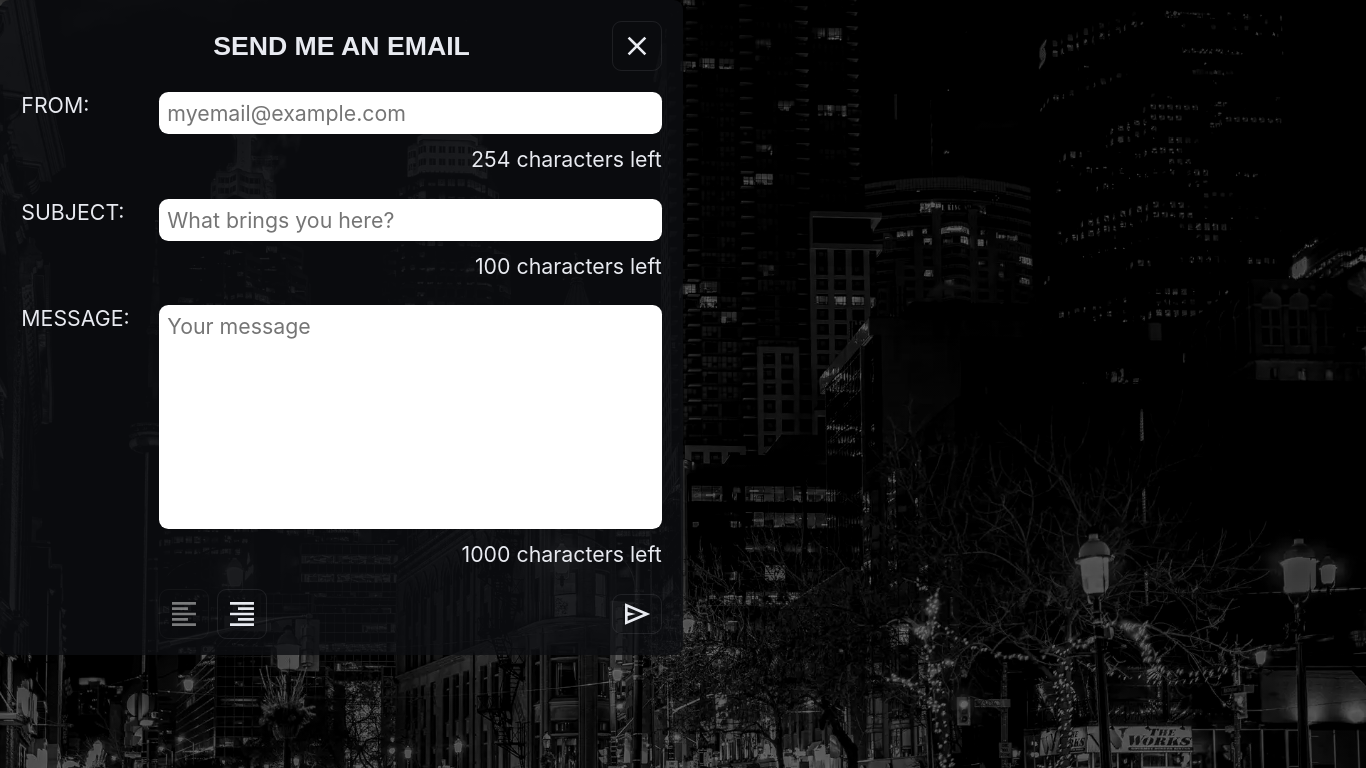
Scenario: MessageForm › displays the resolved success message after submission
Type "me@example.com" into the field labelled "From:". click: [410, 113]
box: [159,92,662,134]
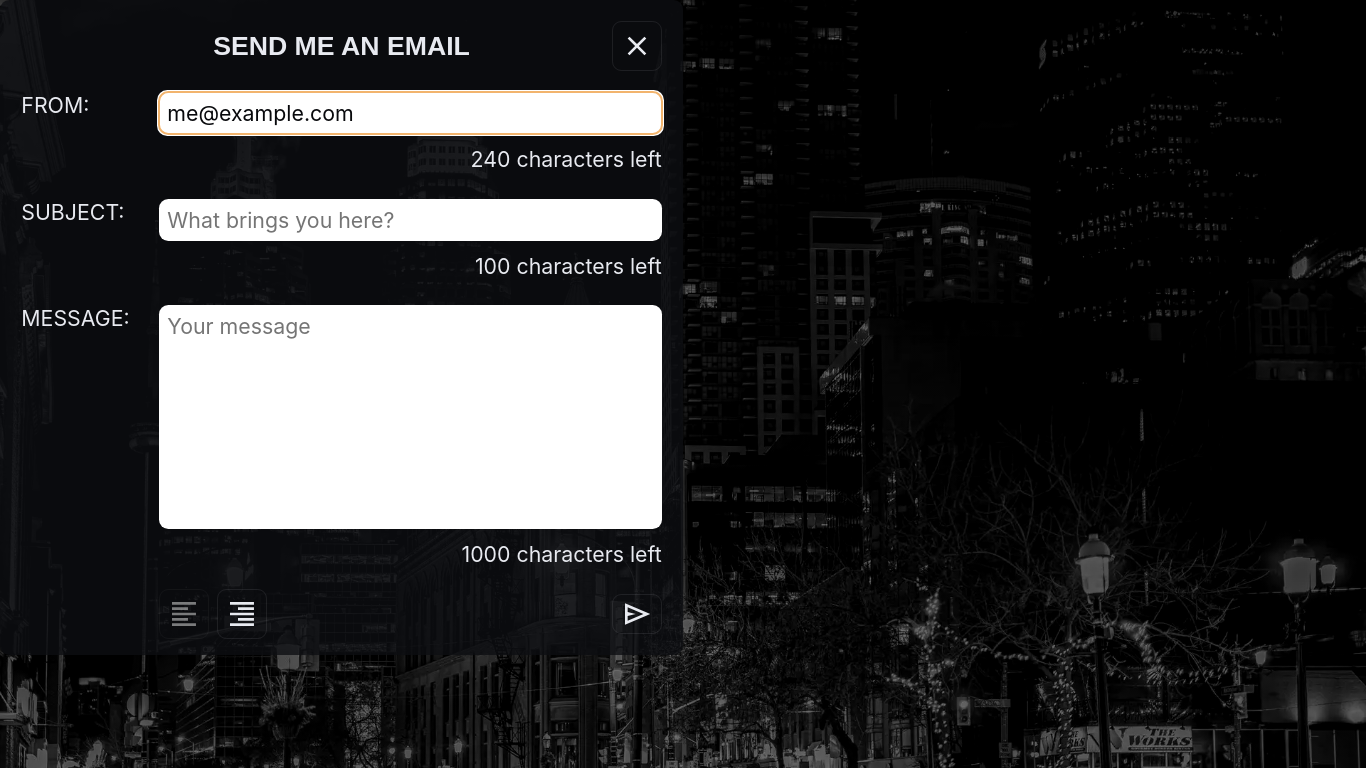
Type "Hello there" into the field labelled "Subject:". click: [410, 220]
box: [159,199,662,241]
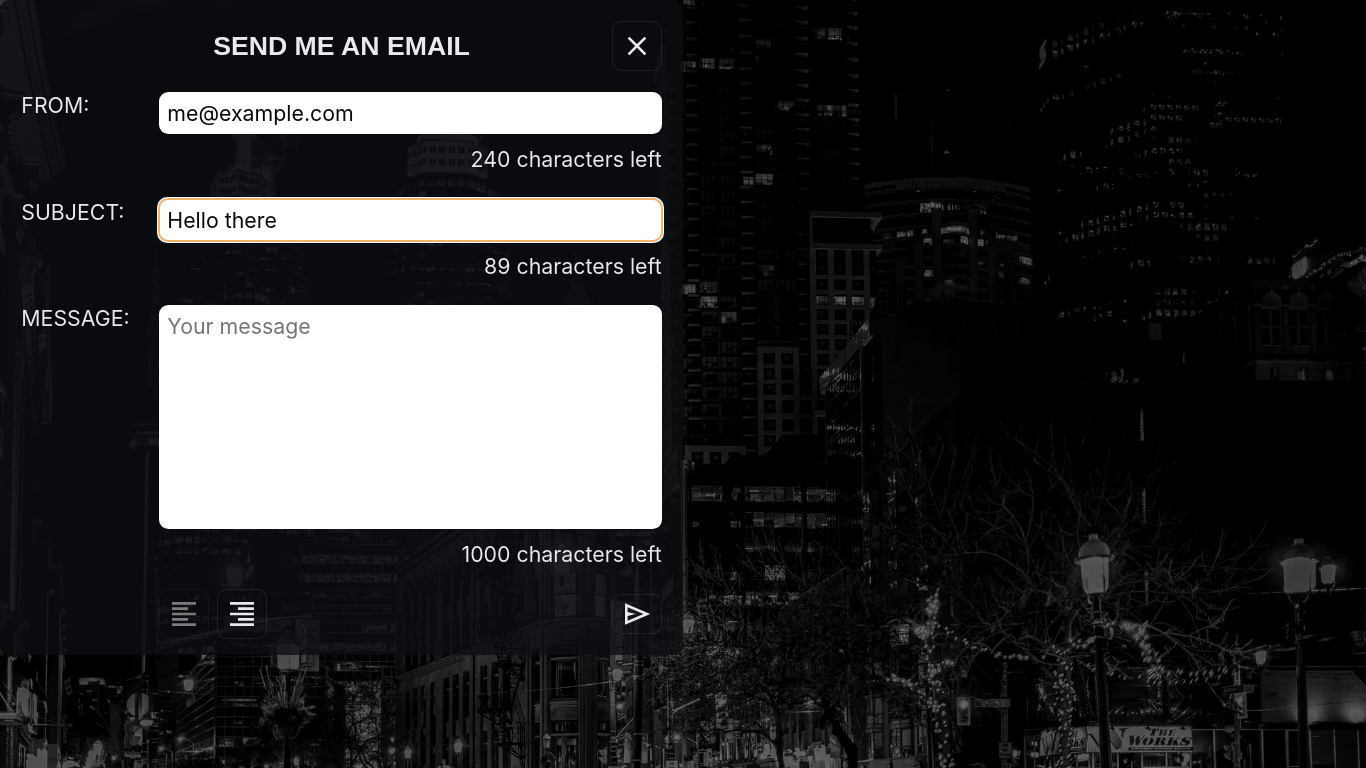
Type "Hi, this is a message" into the text box labelled "Message:". click: [410, 417]
box: [159,305,662,529]
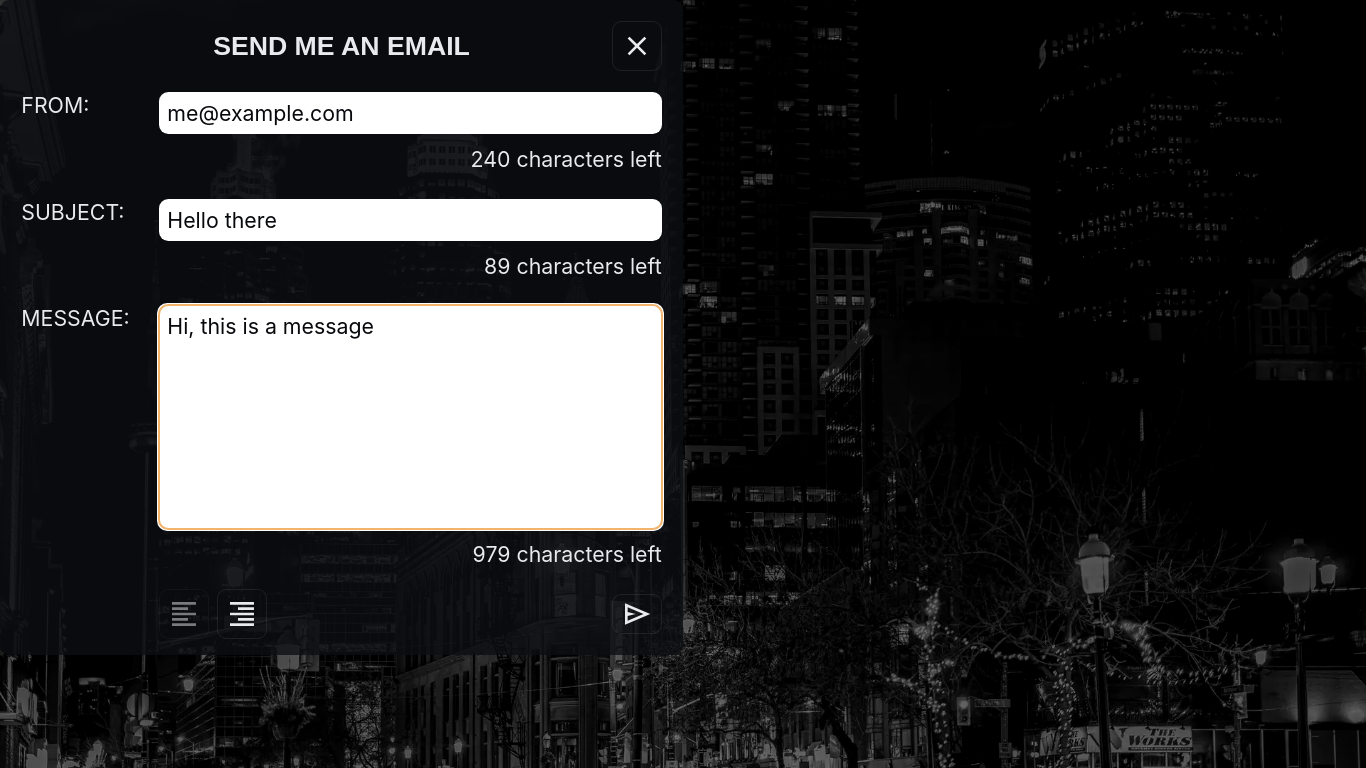
Click the button named "Send". click: [637, 614]
box: [612,594,662,634]
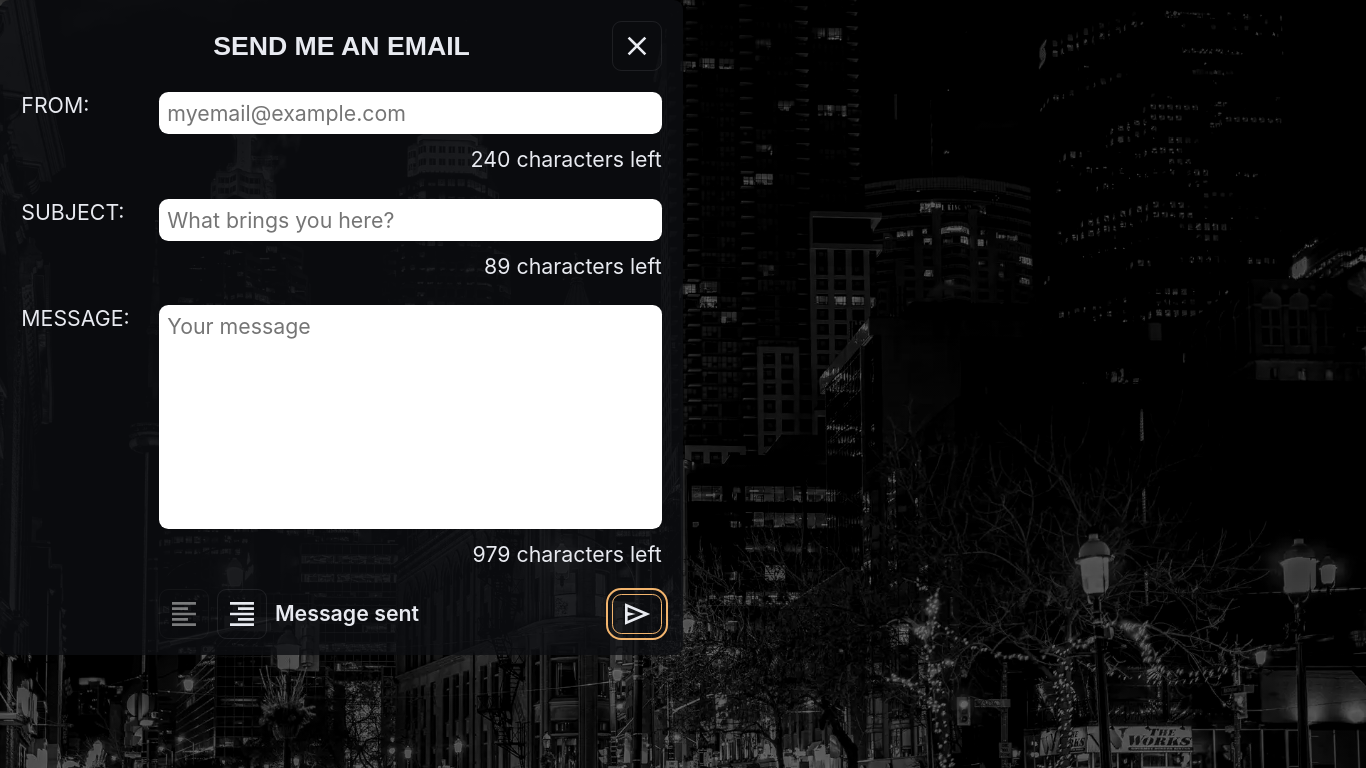
Result: the text "Message sent" is shown at [275,600,419,626]
